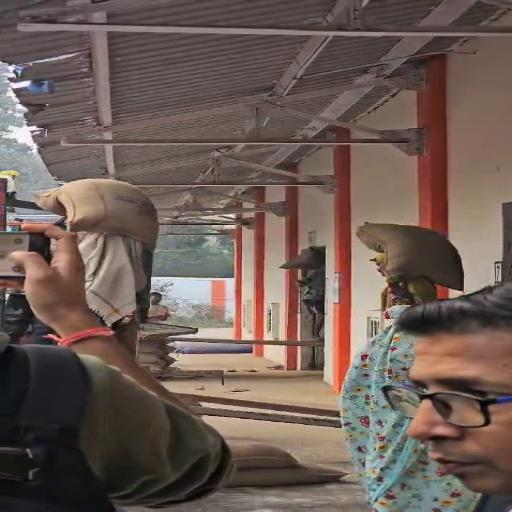bag: (34, 174, 165, 246), (355, 217, 471, 295)
